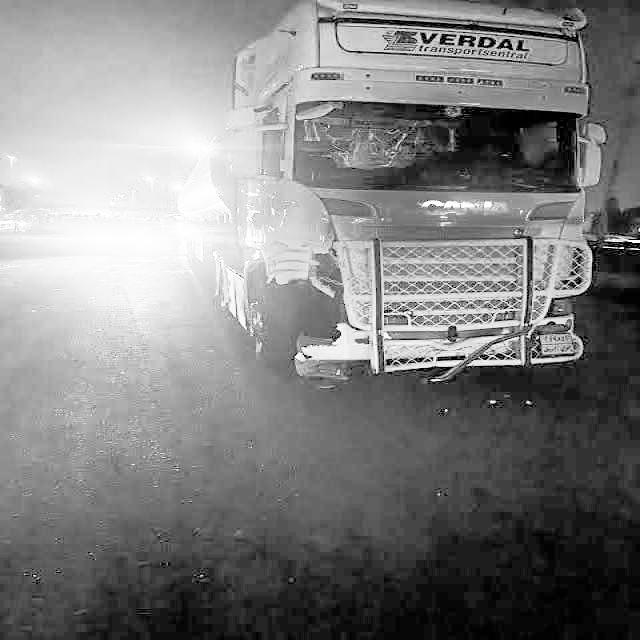Truck: (176, 0, 607, 388)
